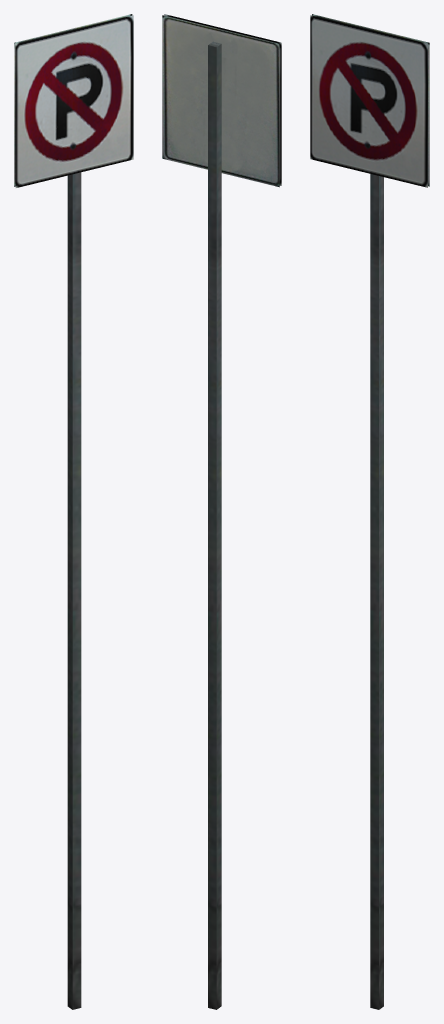
The model's file is noparking.obj.
3 renders of one model, left to right at view 1: azimuth 30°, elevation 25°; view 2: azimuth 150°, elevation 25°; view 3: azimuth 330°, elevation 25°, orthographic.
Parts seen in each view (by area): view 1: handicawparking01; view 2: handicawparking01; view 3: handicawparking01.
Part boxes in pixels (x1,y1,x2,y2): handicawparking01: (14, 14, 133, 1009); handicawparking01: (162, 14, 281, 1009); handicawparking01: (310, 14, 429, 1009).
Bounding box in the file's own units: 0.2663 × 2.12 × 0.0265.
1 material, 1 textured.
